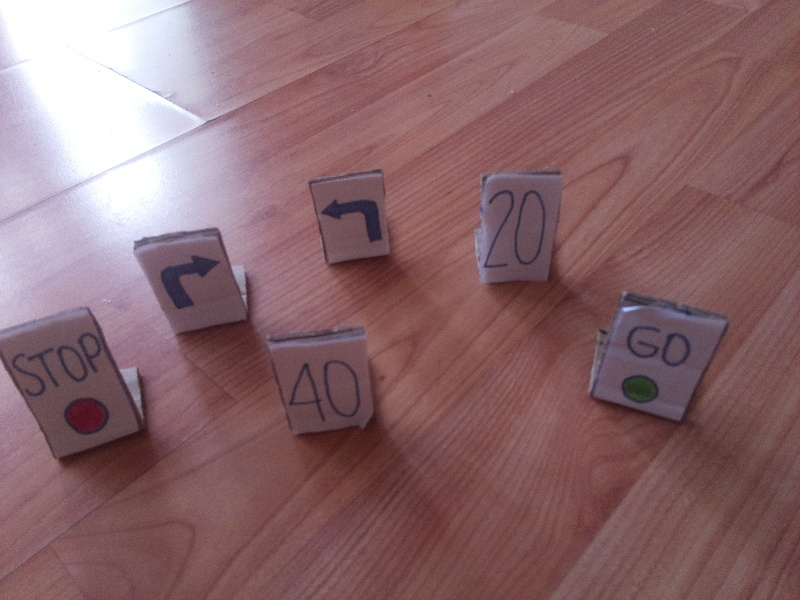20: (485, 187, 545, 274)
40: (287, 354, 369, 430)
go: (618, 322, 694, 407)
stop: (14, 334, 115, 438)
turn left: (321, 189, 387, 246)
turn right: (156, 252, 228, 314)
